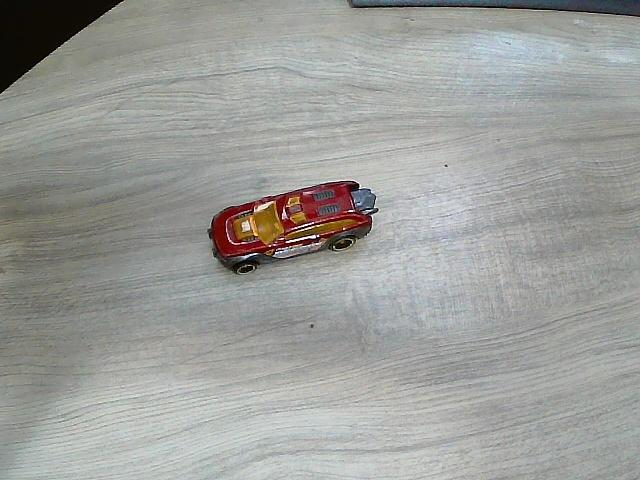Carro: (209, 182, 376, 274)
